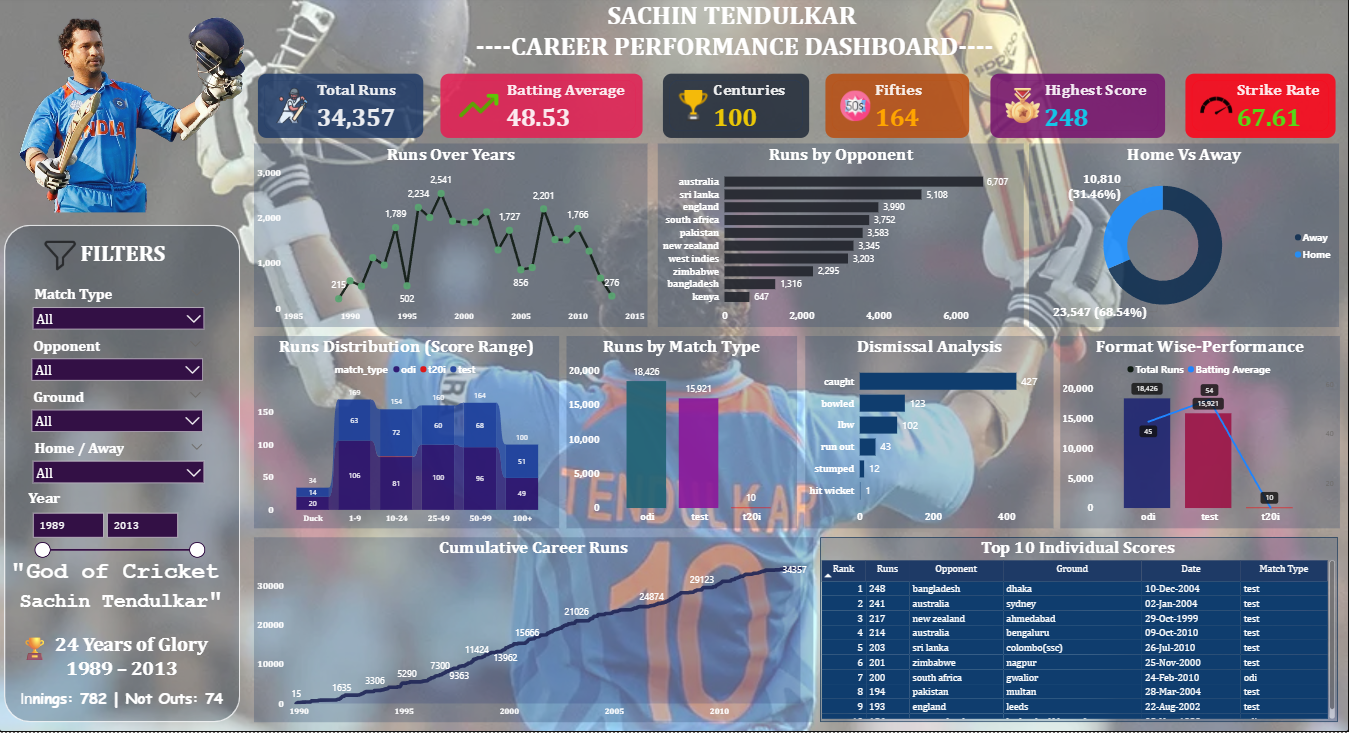

The page's visual inventory and layout, read from the dashboard file:
{"tool":"powerbi","page":{"name":"Page 1","canvas":[2200,1200],"ordinal":0},"visuals":[{"type":"shape","box":[1339.4,883.3,844.1,301.3],"z":0},{"type":"tableEx","title":"Top 10 Individual Scores","fields":{"Values":["Sum(Top10Scores.Rank)","Top10Scores.Runs","Top10Scores.Opponent","Top10Scores.Ground","Top10Scores.Date","Top10Scores.Match Type"]},"box":[1335.3,883.3,848.2,301.3],"z":1000},{"type":"cardVisual","fields":{"Data":["sachin_career.Total Runs"]},"box":[414.8,119.7,282.7,117.6],"z":2000},{"type":"cardVisual","fields":{"Data":["sachin_career.Batting Average"]},"box":[714.1,119.7,342.6,117.6],"z":3000},{"type":"cardVisual","fields":{"Data":["sachin_career.Centuries"]},"box":[1075.2,119.7,251.8,117.6],"z":4000},{"type":"cardVisual","fields":{"Data":["sachin_career.Fifties"]},"box":[1341.5,119.7,247.7,117.6],"z":5000},{"type":"cardVisual","fields":{"Data":["sachin_career.Highest Score"]},"box":[1609.8,119.7,297.2,117.6],"z":6000},{"type":"cardVisual","fields":{"Data":["sachin_career.Strike Rate"]},"box":[1927.6,119.7,258,117.6],"z":7000},{"type":"textbox","box":[697,0,1004.8,120.2],"z":8000},{"type":"lineChart","title":"Runs Over Years","fields":{"Category":["sachin_career.year"],"Y":["sachin_career.Total Runs"]},"box":[414.8,241.5,641.8,299.2],"z":9000},{"type":"clusteredBarChart","title":"Runs by Opponent","fields":{"Category":["sachin_career.opponent"],"Y":["sachin_career.Total Runs"]},"box":[1073.2,241.5,596.4,299.2],"z":10000},{"type":"donutChart","title":"Home Vs Away","fields":{"Category":["sachin_career.home"],"Y":["sachin_career.Total Runs"]},"box":[1679.9,241.5,505.6,299.2],"z":11000},{"type":"columnChart","title":"Runs Distribution (Score Range)","fields":{"Category":["sachin_career.Score Range"],"Y":["CountNonNull(sachin_career.runs)"],"Series":["sachin_career.match_type"]},"box":[414.8,555.2,497.4,313.7],"z":12000},{"type":"clusteredColumnChart","title":" Runs by Match Type","fields":{"Category":["sachin_career.match_type"],"Y":["sachin_career.Total Runs"]},"box":[924.6,555.2,375.6,313.7],"z":13000},{"type":"clusteredBarChart","title":"Dismissal Analysis","fields":{"Category":["sachin_career.dismissal"],"Y":["CountNonNull(sachin_career.runs)"]},"box":[1314.6,555.2,404.5,313.7],"z":14000},{"type":"lineClusteredColumnComboChart","title":"Format Wise-Performance","fields":{"Y":["sachin_career.Total Runs"],"Category":["sachin_career.match_type"],"Y2":["sachin_career.Batting Average"]},"box":[1729.5,555.2,456.1,313.7],"z":15000},{"type":"lineChart","title":"Cumulative Career Runs","fields":{"Y":["sachin_career.Cumulative Runs"],"Category":["sachin_career.date"]},"box":[414.8,883.3,912.2,301.3],"z":16000},{"type":"shape","box":[8.2,373,385.2,811.1],"z":17000},{"type":"image","box":[26.5,0,385.2,352.6],"z":18000},{"type":"textbox","box":[26.5,391.3,350.5,67.3],"z":19000},{"type":"image","box":[69.3,391.3,61.1,61.1],"z":20000},{"type":"slicer","fields":{"Values":["sachin_career.match_type"]},"box":[44.8,466.7,299.6,85.6],"z":21000},{"type":"slicer","fields":{"Values":["sachin_career.opponent"]},"box":[42.8,550.3,299.6,85.6],"z":22000},{"type":"slicer","fields":{"Values":["sachin_career.ground"]},"box":[42.8,633.8,299.6,112.1],"z":23000},{"type":"slicer","fields":{"Values":["sachin_career.home"]},"box":[44.8,717.4,299.6,95.8],"z":24000},{"type":"slicer","title":"Year","fields":{"Values":["sachin_career.year"]},"box":[42.8,803,301.6,126.4],"z":25000},{"type":"textbox","box":[0,909,399.5,214],"z":26000},{"type":"textbox","box":[0,1123,399.5,61.1],"z":27000}]}

Visuals, with their boxes in screenshot pixels (x1, y1, x2, y2), scaled from the page's 2200x1200 canvas onto the 1349x733 screenshot:
shape: [821,540,1339,724]
"Top 10 Individual Scores" tableEx: [819,540,1339,724]
cardVisual - sachin_career.Total Runs: [254,73,428,145]
cardVisual - sachin_career.Batting Average: [438,73,648,145]
cardVisual - sachin_career.Centuries: [659,73,814,145]
cardVisual - sachin_career.Fifties: [823,73,974,145]
cardVisual - sachin_career.Highest Score: [987,73,1169,145]
cardVisual - sachin_career.Strike Rate: [1182,73,1340,145]
textbox: [427,0,1044,73]
"Runs Over Years" lineChart: [254,148,648,330]
"Runs by Opponent" clusteredBarChart: [658,148,1024,330]
"Home Vs Away" donutChart: [1030,148,1340,330]
"Runs Distribution (Score Range)" columnChart: [254,339,559,531]
" Runs by Match Type" clusteredColumnChart: [567,339,797,531]
"Dismissal Analysis" clusteredBarChart: [806,339,1054,531]
"Format Wise-Performance" lineClusteredColumnComboChart: [1060,339,1340,531]
"Cumulative Career Runs" lineChart: [254,540,814,724]
shape: [5,228,241,723]
image: [16,0,252,215]
textbox: [16,239,231,280]
image: [42,239,80,276]
slicer - sachin_career.match_type: [27,285,211,337]
slicer - sachin_career.opponent: [26,336,210,388]
slicer - sachin_career.ground: [26,387,210,456]
slicer - sachin_career.home: [27,438,211,497]
"Year" slicer: [26,490,211,568]
textbox: [0,555,245,686]
textbox: [0,686,245,723]
